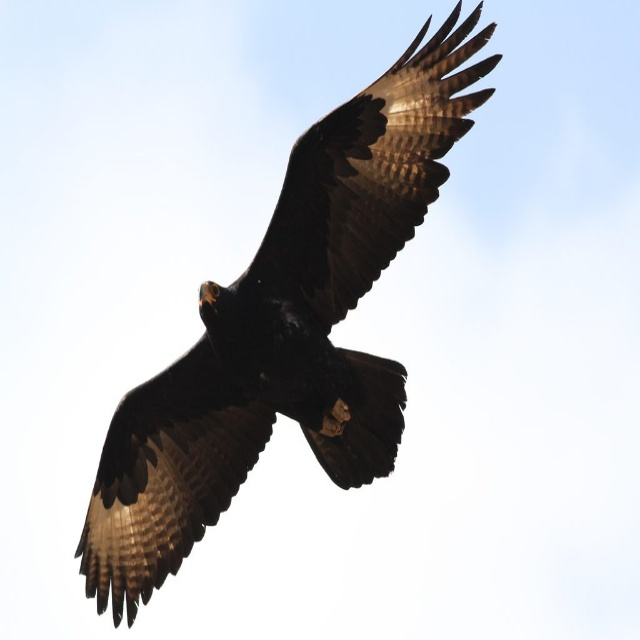Eagle: (73, 0, 503, 629)
